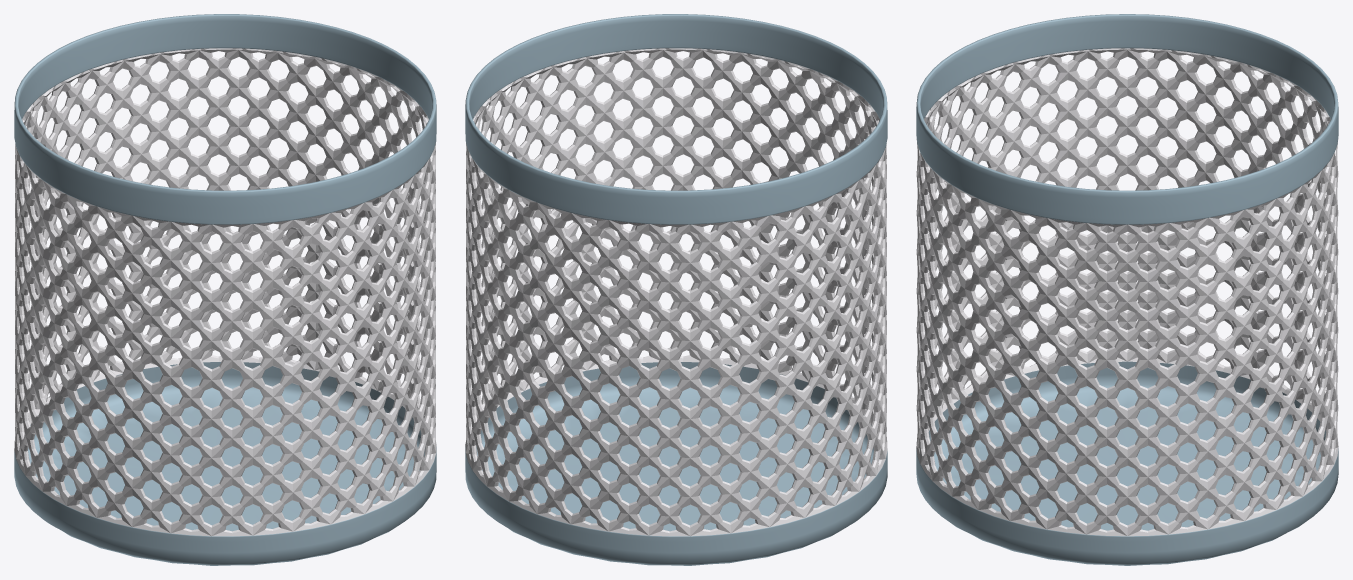
The model's file is trash_can.glb.
3 renders of one model, left to right at view 1: azimuth 30°, elevation 25°; view 2: azimuth 150°, elevation 25°; view 3: azimuth 270°, elevation 25°, orthographic.
Parts seen in each view (by area): view 1: Trash_can; view 2: Trash_can; view 3: Trash_can.
Boxes of the visible parts, x1,y1,x2,y2 form: Trash_can: (14,14,436,565); Trash_can: (465,14,887,565); Trash_can: (916,14,1338,565).
Size of the model in its own units: 2.03 by 2 by 2.03.
